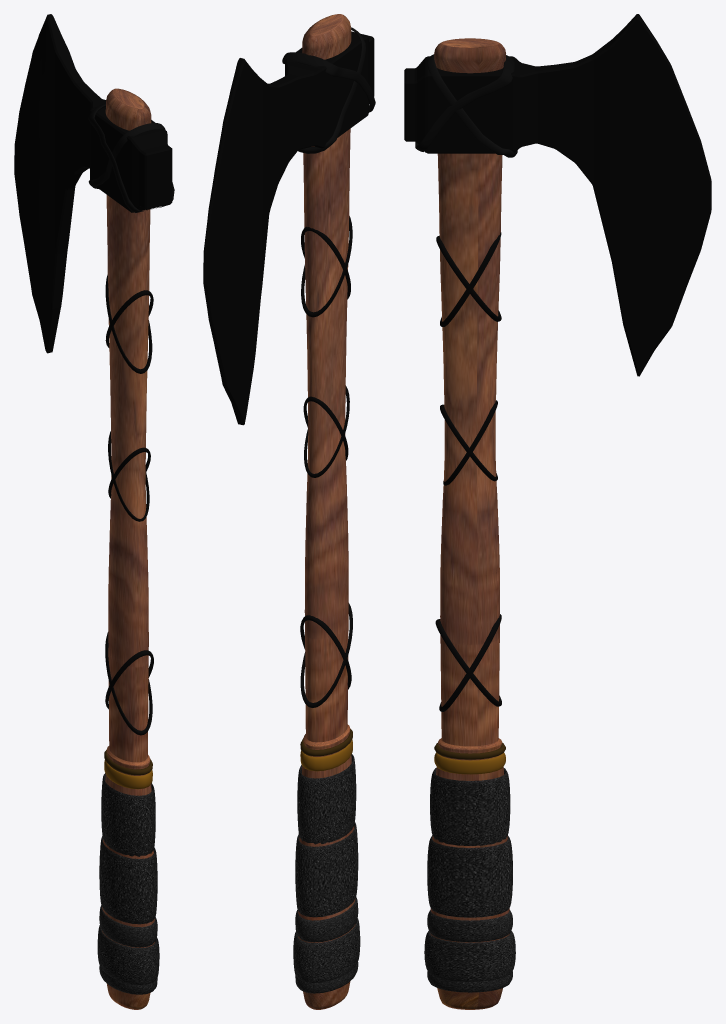
Rendered from axe_OBJ.obj.
3 views of the same model, side by side, from view 1: azimuth 30°, elevation 25°; view 2: azimuth 150°, elevation 25°; view 3: azimuth 270°, elevation 25° (orthographic). The views are drawn at different scales.
Visible parts, largest first — view 1: pCylinder1, pCube1, pTorus14, pTorus15, pTorus12, pTorus13, pTorus7, pTorus8, pTorus10, pTorus5, pTorus11, pTorus16 (+3 smaller); view 2: pCylinder1, pCube1, pTorus14, pTorus15, pTorus12, pTorus13, pTorus7, pTorus8, pTorus10, pTorus11, pTorus6, pTorus17 (+5 smaller); view 3: pCube1, pCylinder1, pTorus14, pTorus15, pTorus12, pTorus13, pTorus7, pTorus8, pTorus10, pTorus11.
Part boxes in pixels (x1,y1,x2,y2): pCylinder1: (102, 88, 154, 1009); pCube1: (14, 14, 172, 353); pTorus14: (99, 836, 157, 924); pTorus15: (101, 773, 155, 856); pTorus12: (97, 925, 159, 984); pTorus13: (99, 905, 157, 947); pTorus7: (88, 103, 174, 212); pTorus8: (88, 123, 165, 188); pTorus10: (104, 760, 152, 789); pTorus5: (105, 632, 152, 735); pTorus11: (99, 965, 157, 994); pTorus16: (105, 275, 152, 373); pCylinder1: (298, 14, 355, 1009); pCube1: (203, 31, 374, 425); pTorus14: (295, 822, 358, 917); pTorus15: (297, 754, 356, 844); pTorus12: (293, 918, 360, 982); pTorus13: (295, 897, 358, 942); pTorus7: (282, 52, 375, 112); pTorus8: (298, 27, 365, 153); pTorus10: (300, 739, 352, 771); pTorus11: (295, 962, 358, 993); pTorus6: (300, 603, 352, 707); pTorus17: (301, 216, 352, 317); pCube1: (404, 14, 711, 376); pCylinder1: (430, 38, 509, 1009); pTorus14: (427, 835, 512, 917); pTorus15: (430, 768, 510, 845); pTorus12: (424, 930, 515, 981); pTorus13: (427, 910, 512, 942); pTorus7: (415, 55, 514, 151); pTorus8: (427, 54, 517, 157); pTorus10: (434, 752, 505, 774); pTorus11: (427, 971, 512, 992).
Bounding box in the file's own units: 2.17 × 38.27 × 10.76.
